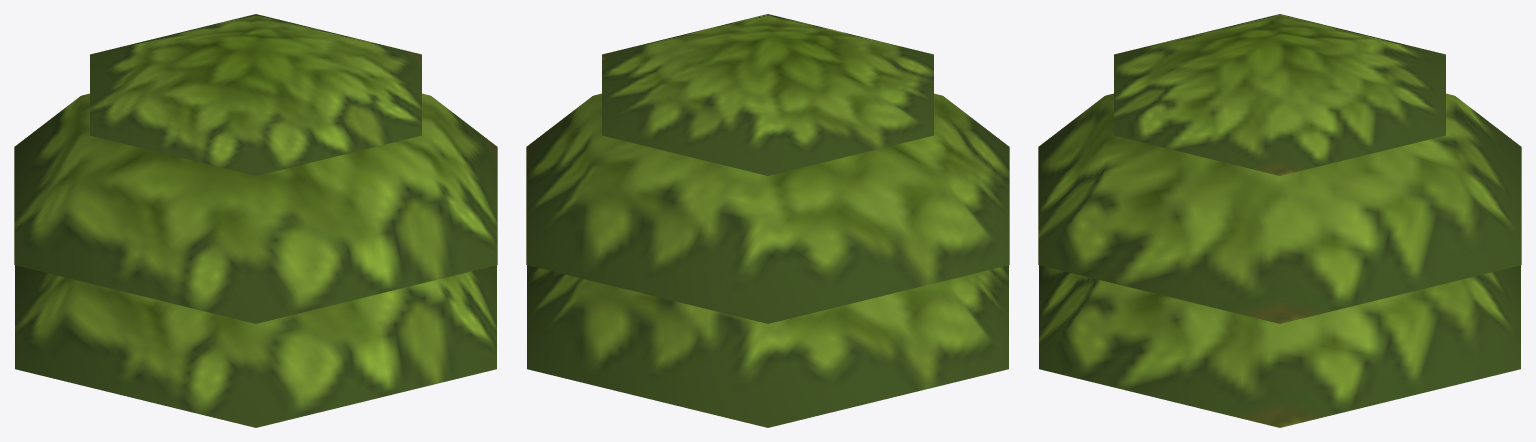
The model's file is a_tree_4.FBX.
The picture shows the model from 3 angles, left to right: view 1: azimuth 30°, elevation 25°; view 2: azimuth 150°, elevation 25°; view 3: azimuth 270°, elevation 25°; orthographic projection.
Visible parts, largest first — view 1: Object016; view 2: Object016; view 3: Object016.
Boxes of the visible parts, bbox=[...] form: Object016: bbox=[14, 14, 497, 427]; Object016: bbox=[526, 14, 1009, 427]; Object016: bbox=[1038, 14, 1521, 427].
Bounding box in the file's own units: 38.53 × 33.37 × 20.69.
1 material, 1 textured.
